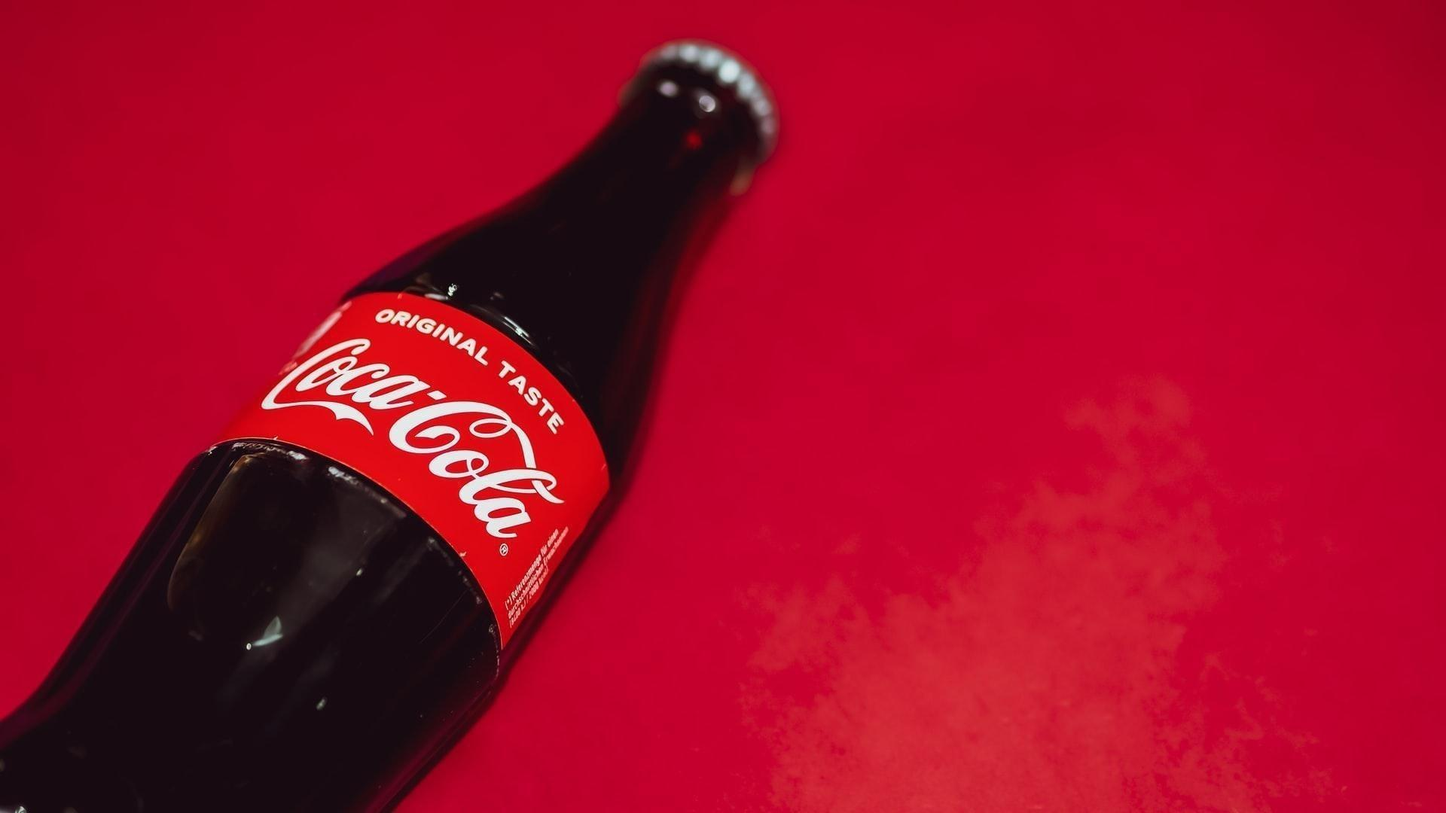bottle-glass: (1, 29, 792, 812)
